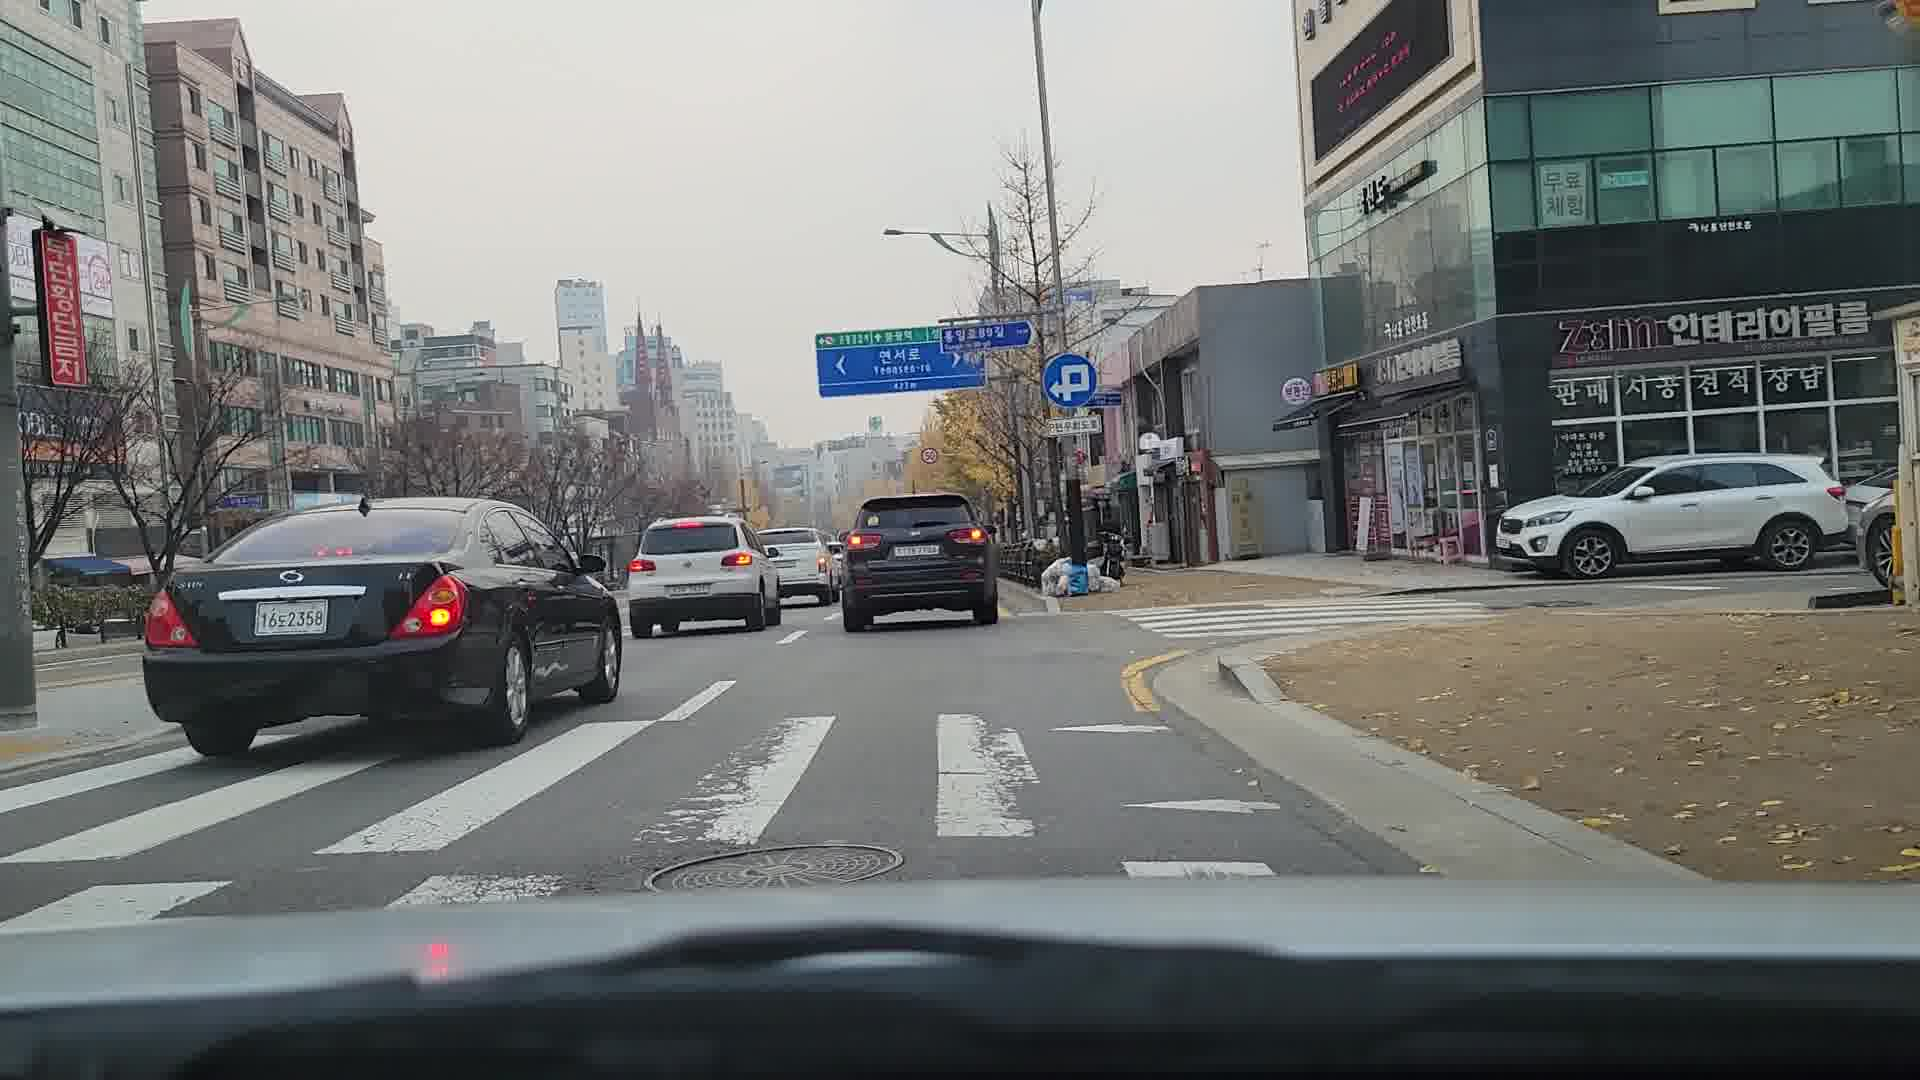bicycle: (638, 839, 905, 895)
car: (133, 494, 626, 757), (1489, 452, 1854, 577), (621, 514, 784, 639), (755, 526, 840, 604)
person: (1049, 554, 1084, 596)
truck: (830, 493, 999, 633)
